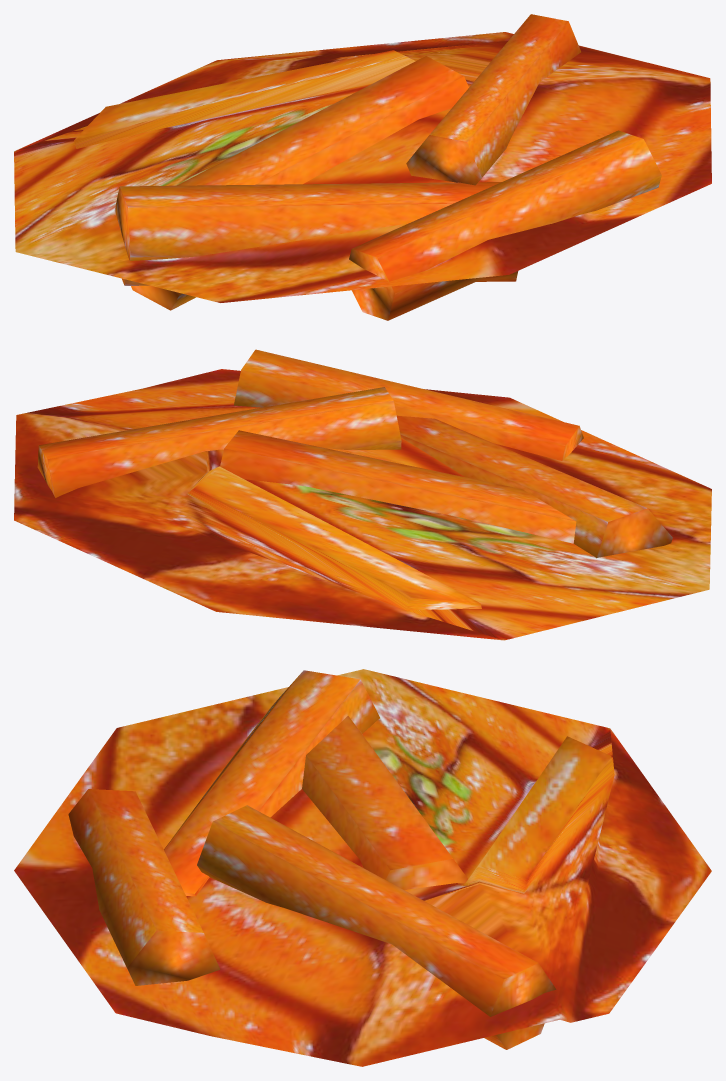
File: Tteok.fbx
The picture shows the model from 3 angles, top to bottom: view 1: azimuth 30°, elevation 25°; view 2: azimuth 150°, elevation 25°; view 3: azimuth 270°, elevation 25°; orthographic projection. The views are drawn at different scales.
Parts seen in each view (by area): view 1: Plate, Cylinder.002, Cylinder.006, Cylinder.007, Cylinder.005; view 2: Plate, Cylinder.005, Cylinder.007, Cylinder.002, Cylinder.006; view 3: Plate, Cylinder.005, Cylinder.006, Cylinder.002, Cylinder.007.
Part boxes in pixels (x1,y1,x2,y2): Plate: (14,32,711,302); Cylinder.002: (114,182,518,285); Cylinder.006: (349,130,661,320); Cylinder.007: (131,56,468,310); Cylinder.005: (406,14,580,185); Plate: (14,369,711,640); Cylinder.005: (37,387,401,497); Cylinder.007: (220,430,576,543); Cylinder.002: (396,415,672,558); Cylinder.006: (234,349,583,460); Plate: (14,669,711,1066); Cylinder.005: (197,805,556,1049); Cylinder.006: (68,789,220,985); Cylinder.002: (164,670,379,896); Cylinder.007: (302,716,467,890).
Size of the model in its own units: 257 by 44.15 by 188.
Materials: 2 (2 with a texture image).
